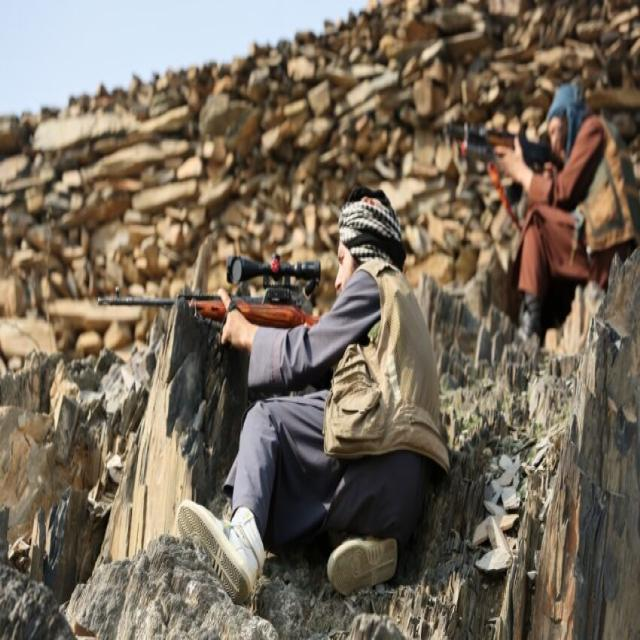Militant: (166, 161, 450, 600), (467, 64, 640, 389)
